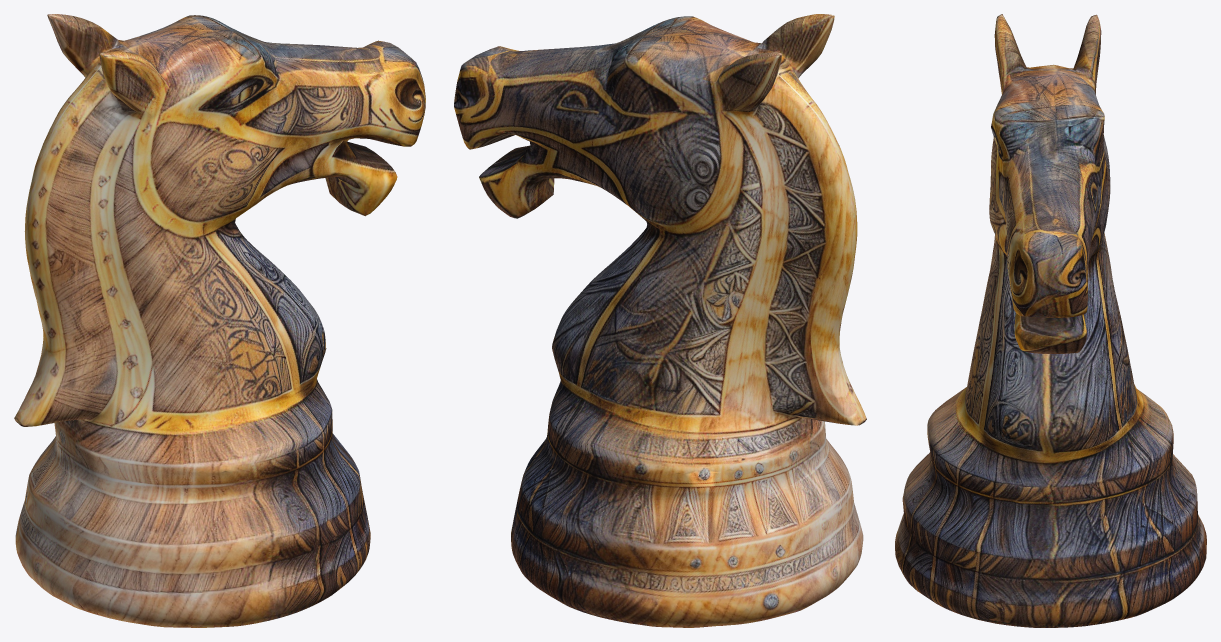
Rendered from knight.glb.
The picture shows the model from 3 angles, left to right: view 1: azimuth 30°, elevation 25°; view 2: azimuth 150°, elevation 25°; view 3: azimuth 270°, elevation 25°; orthographic projection. The views are drawn at different scales.
Parts seen in each view (by area): view 1: mesh_0; view 2: mesh_0; view 3: mesh_0.
Boxes of the visible parts, x1,y1,x2,y2 form: mesh_0: (14, 14, 425, 627); mesh_0: (454, 14, 866, 627); mesh_0: (895, 14, 1206, 627).
Bounding box in the file's own units: 0.8663 × 1.2 × 0.6544.
Materials: 1 (1 with a texture image).
